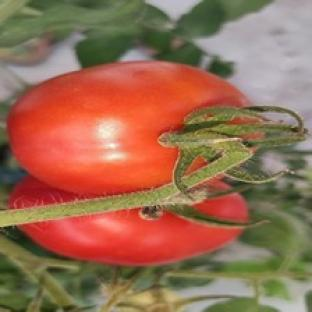Tomato: (9, 62, 249, 194), (20, 208, 242, 266)
